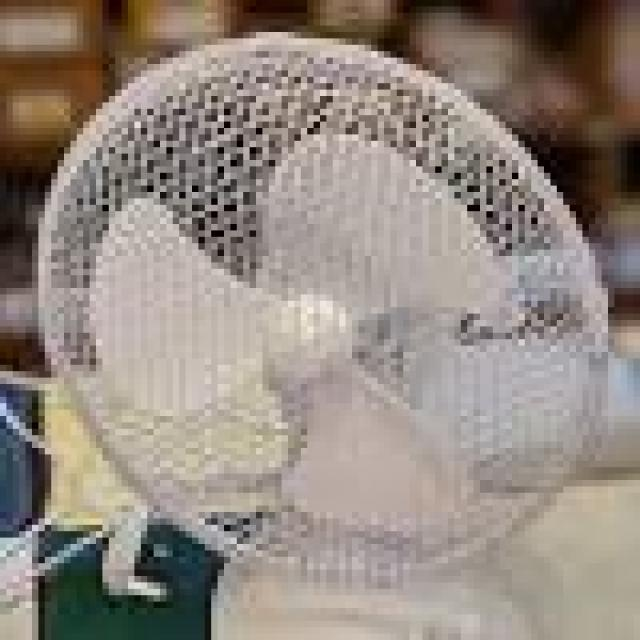fan: (37, 29, 623, 631)
